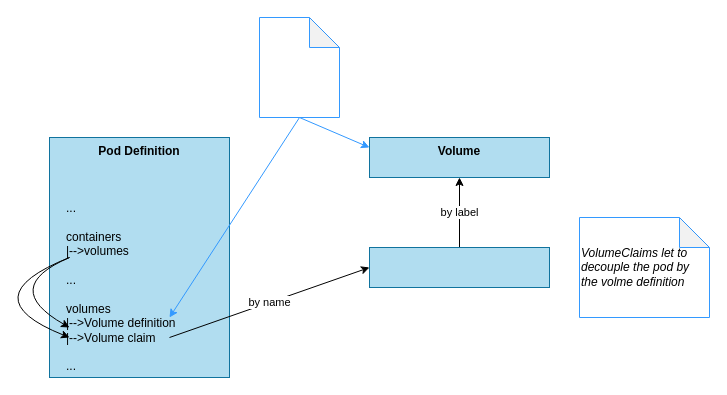
Some shapes in this 727 by 395 pixel diagram are drawn without their labels. Each missing label, with the centre of its shape:
"VolumeClaim" belongs at point (459, 267).
"Volumes can be defined in 2 places" belongs at point (299, 67).
